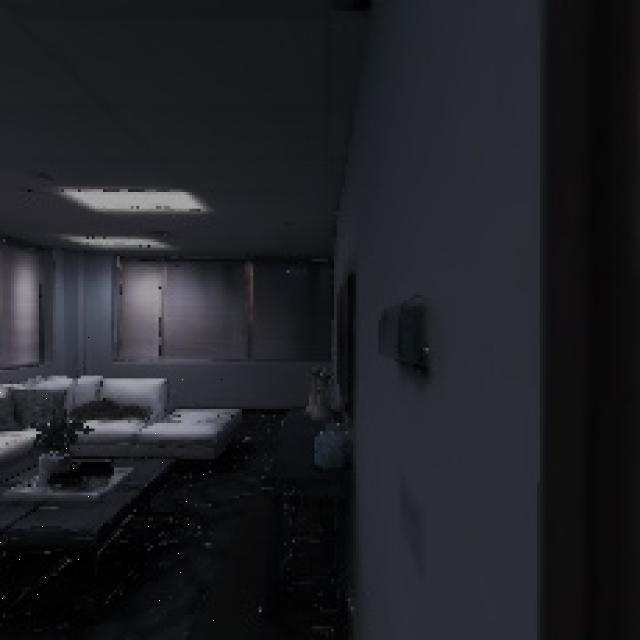sofa: (0, 331, 262, 518)
table: (0, 425, 214, 640)
